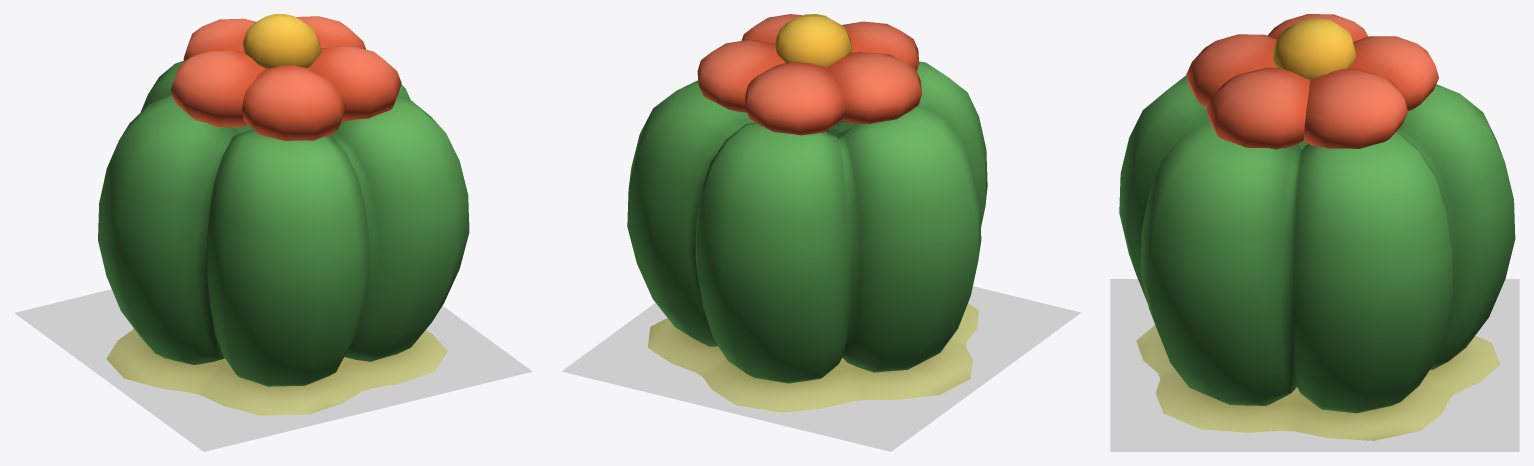
Rendered from VK_Cactus02.fbx.
3 renders of one model, left to right at view 1: azimuth 30°, elevation 25°; view 2: azimuth 150°, elevation 25°; view 3: azimuth 270°, elevation 25°, orthographic. The views are drawn at different scales.
Visible parts, largest first — view 1: Cactus02, Cactus02_Grid; view 2: Cactus02, Cactus02_Grid; view 3: Cactus02, Cactus02_Grid.
Part boxes in pixels (box(x1,y1,x2,y2)): Cactus02: box(98, 14, 469, 415); Cactus02_Grid: box(14, 289, 532, 451); Cactus02: box(627, 14, 987, 412); Cactus02_Grid: box(562, 286, 1080, 451); Cactus02: box(1119, 14, 1515, 440); Cactus02_Grid: box(1110, 279, 1519, 451).
Bounding box in the file's own units: 1 × 0.934 × 1.
